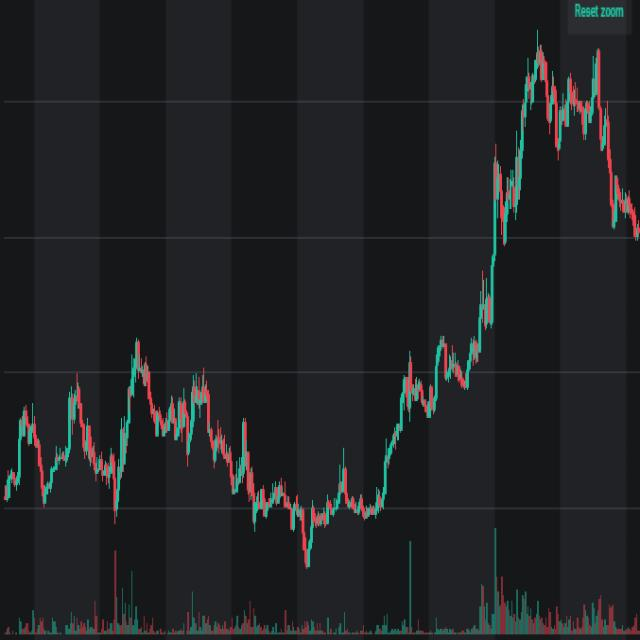Resistance-breakout: (331, 332, 427, 532)
